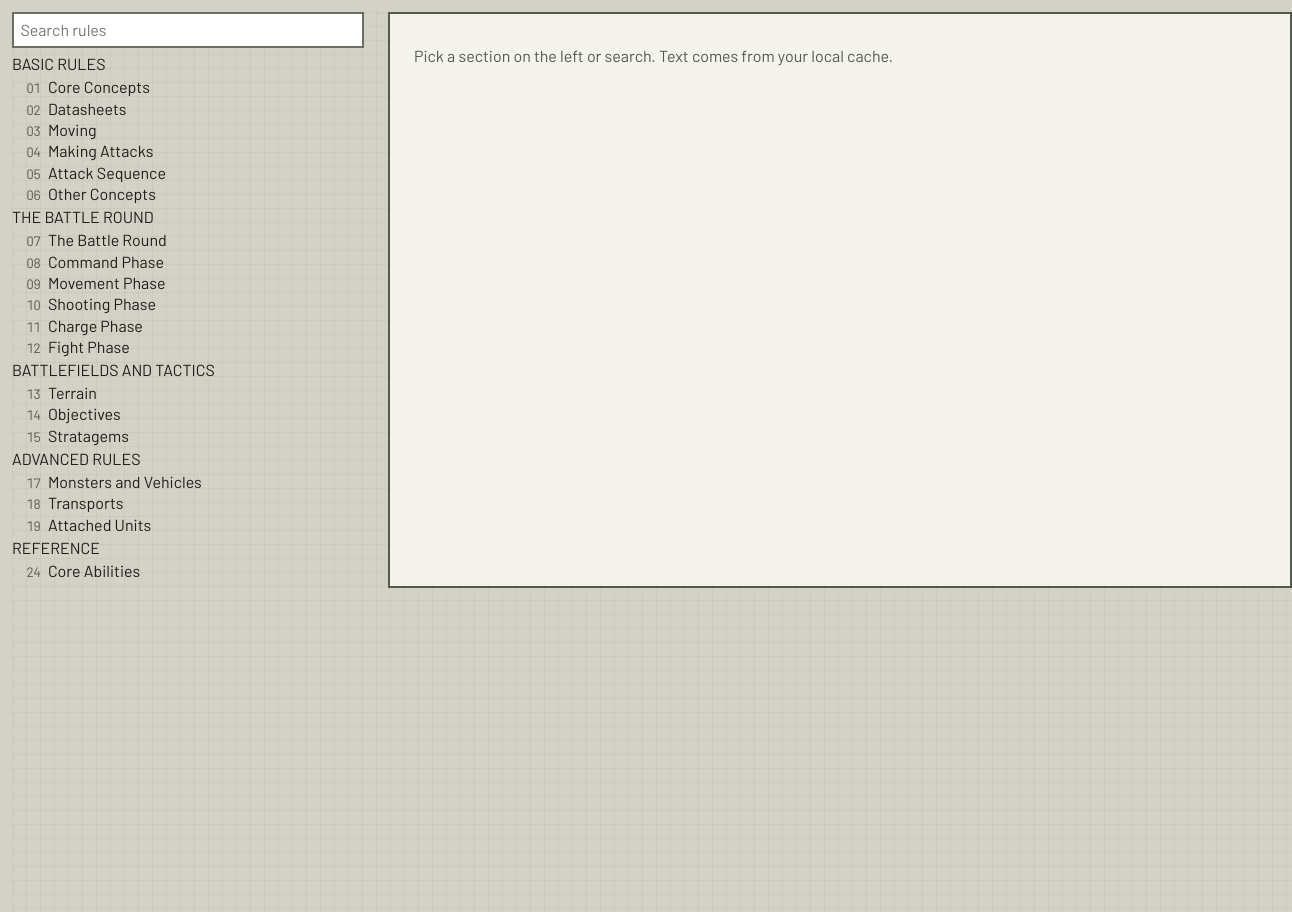
RulesPage (fixture rules) › filters while typing
The image size is (1292, 912).
Type "lethal" into the search field labelled "Search rules" at (188,30), box [12,12,364,48]
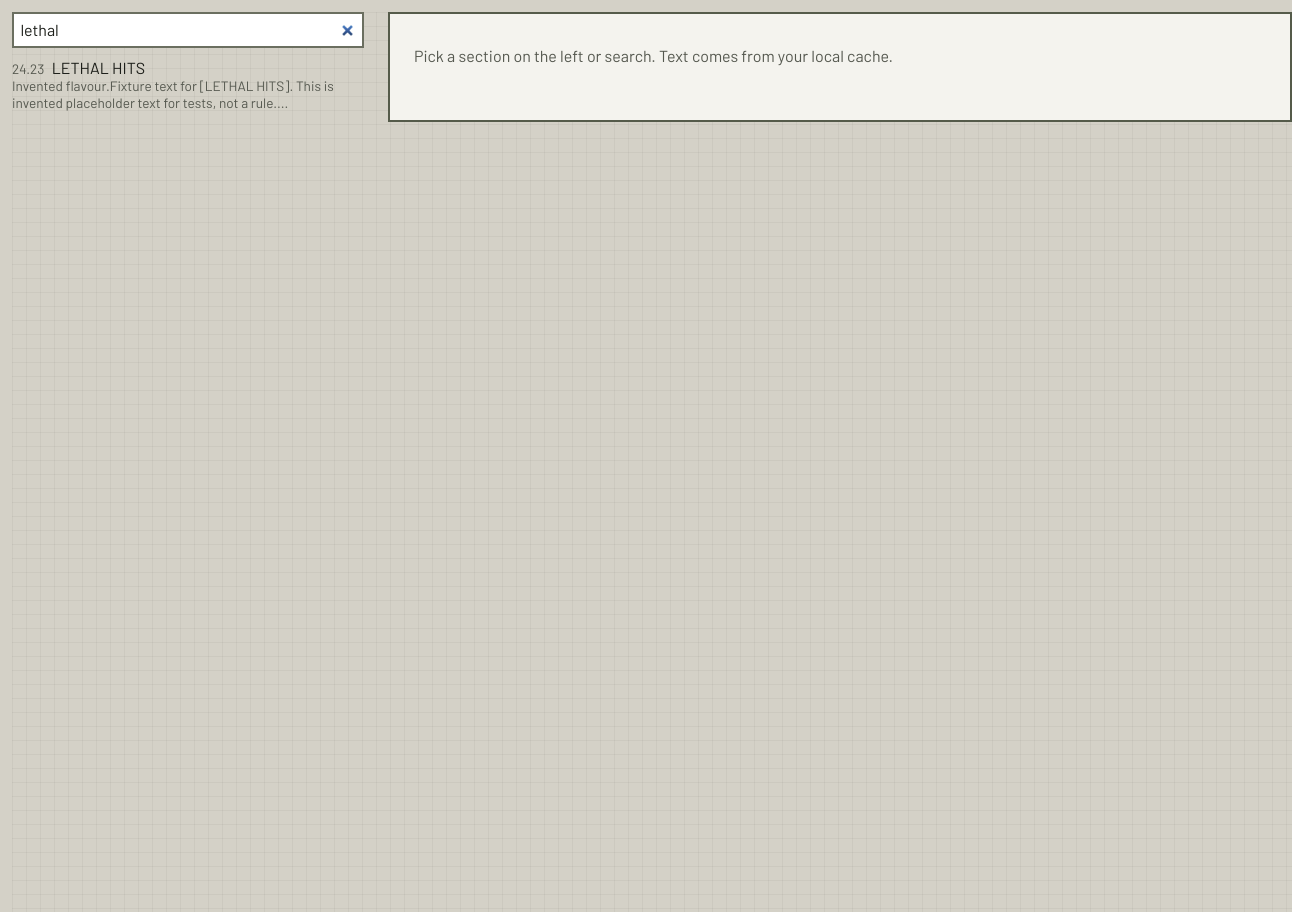
Expected: the list with test id "rule-search-results" shows "LETHAL HITS", [12,58,145,77]
